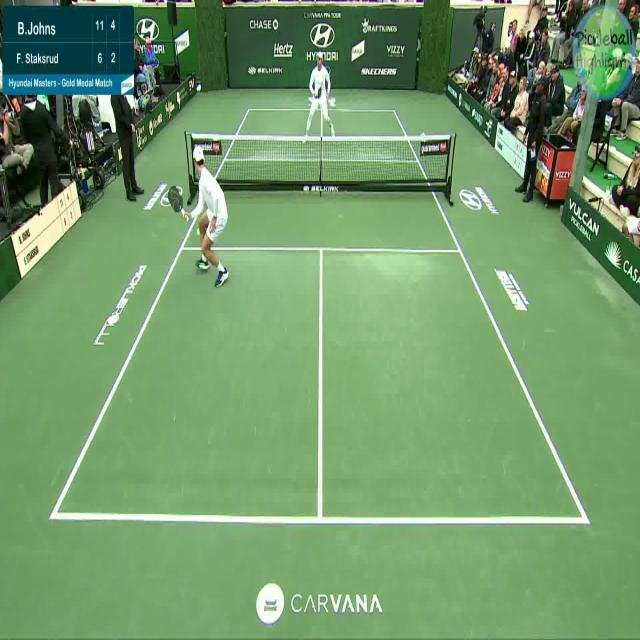ball: (193, 224, 204, 240)
